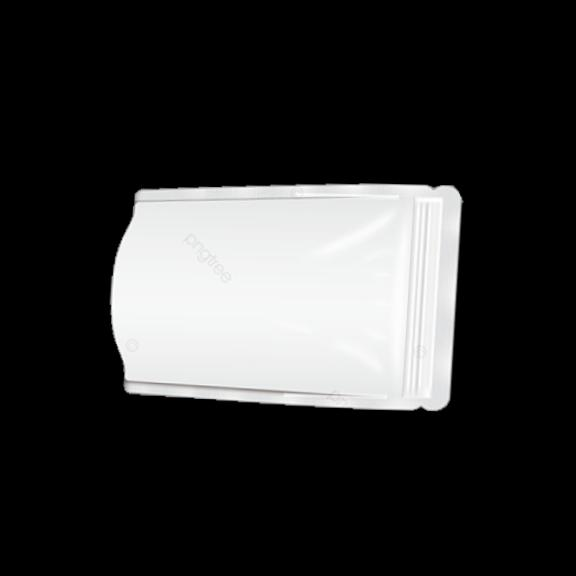Plastik: (102, 164, 483, 414)
